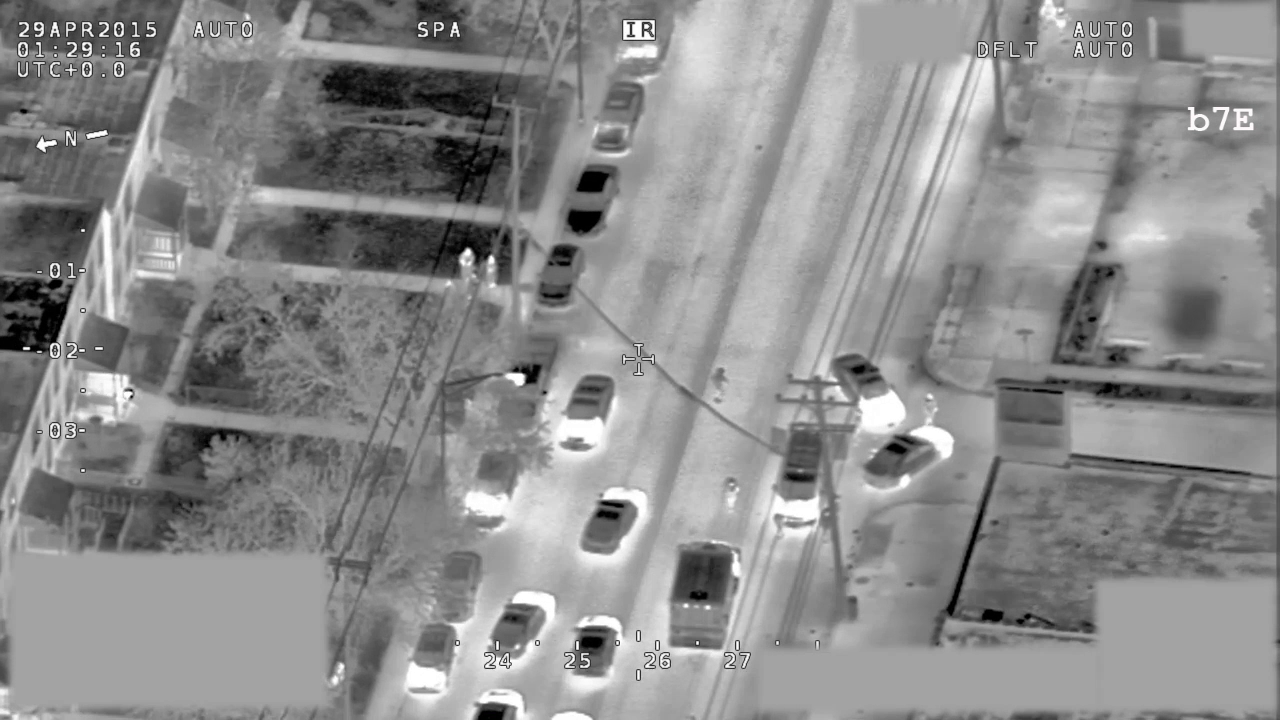vehicle: (666, 538, 744, 652), (768, 424, 831, 536), (495, 331, 562, 436), (862, 422, 957, 493), (827, 351, 909, 431), (486, 585, 559, 664), (552, 372, 617, 454), (579, 484, 650, 557), (464, 448, 521, 534), (613, 3, 676, 79), (402, 623, 461, 700), (589, 77, 646, 155), (431, 548, 488, 625), (560, 164, 616, 239), (532, 242, 587, 314), (567, 612, 624, 681), (470, 686, 527, 720)
